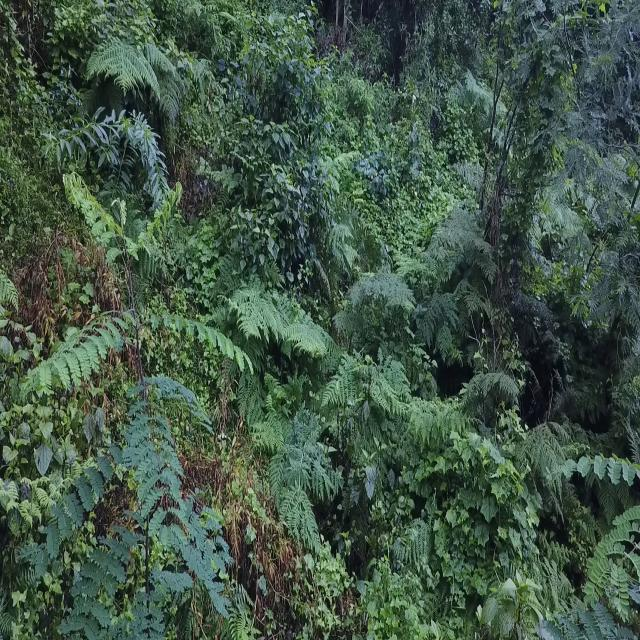Mysore-Thorn-Weed: (15, 175, 252, 640), (535, 447, 640, 640)
